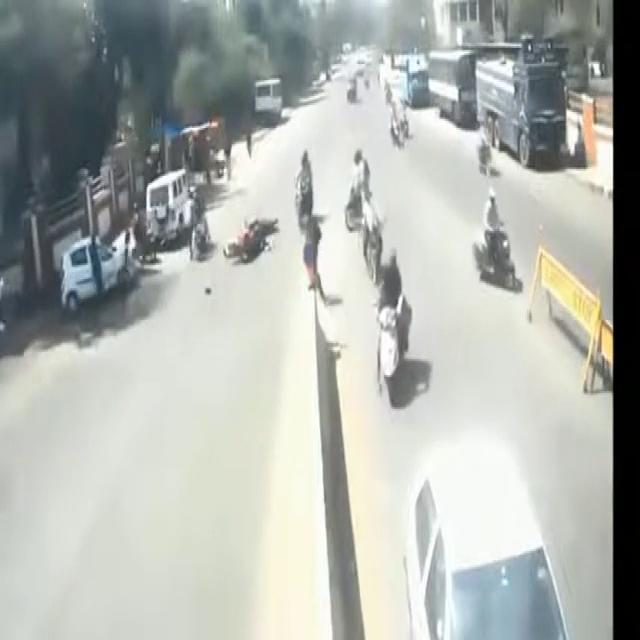accident: (224, 197, 281, 270)
